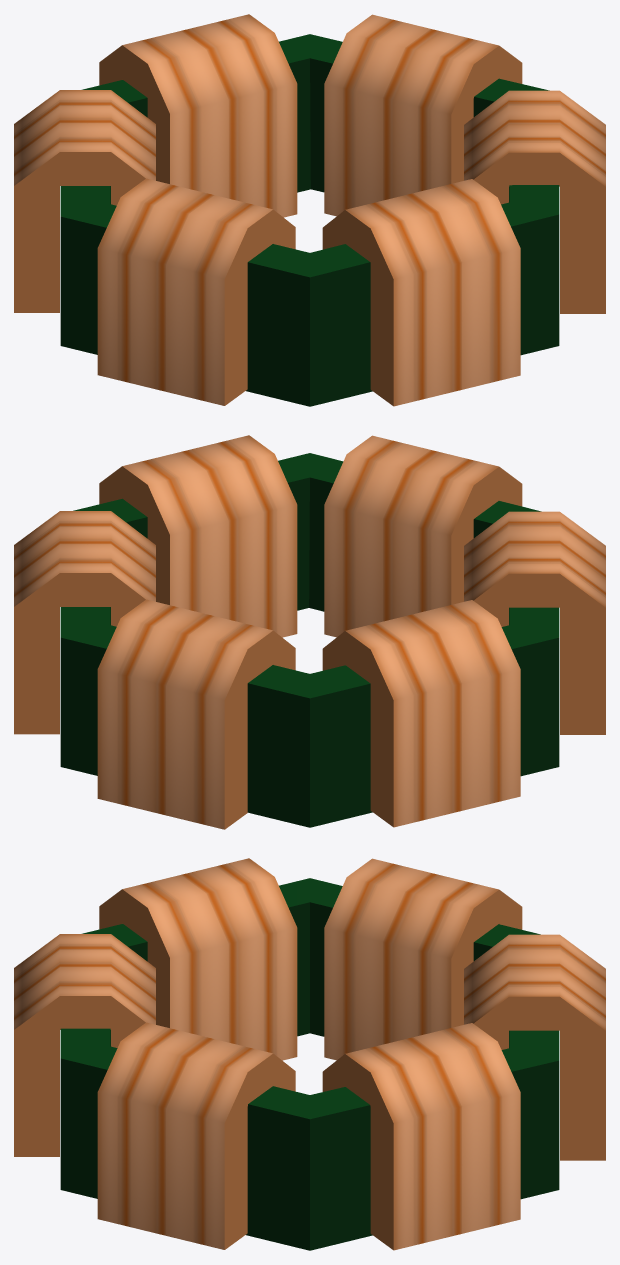
The model's file is InductorCoil.fbx.
3 views of the same model, one above another, from view 1: azimuth 30°, elevation 25°; view 2: azimuth 150°, elevation 25°; view 3: azimuth 270°, elevation 25° (orthographic).
Visible parts, largest first — view 1: InductorCoil; view 2: InductorCoil; view 3: InductorCoil.
Boxes of the visible parts, <box> form: InductorCoil: <box>14,14,605,406</box>; InductorCoil: <box>14,435,605,829</box>; InductorCoil: <box>14,858,605,1250</box>.
Size of the model in its own units: 2.04 by 0.6327 by 2.06.
